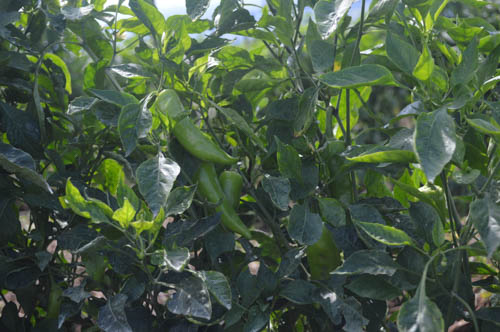ChiliPepper: (158, 90, 242, 161), (199, 165, 251, 241), (304, 228, 340, 278), (219, 166, 244, 209)
